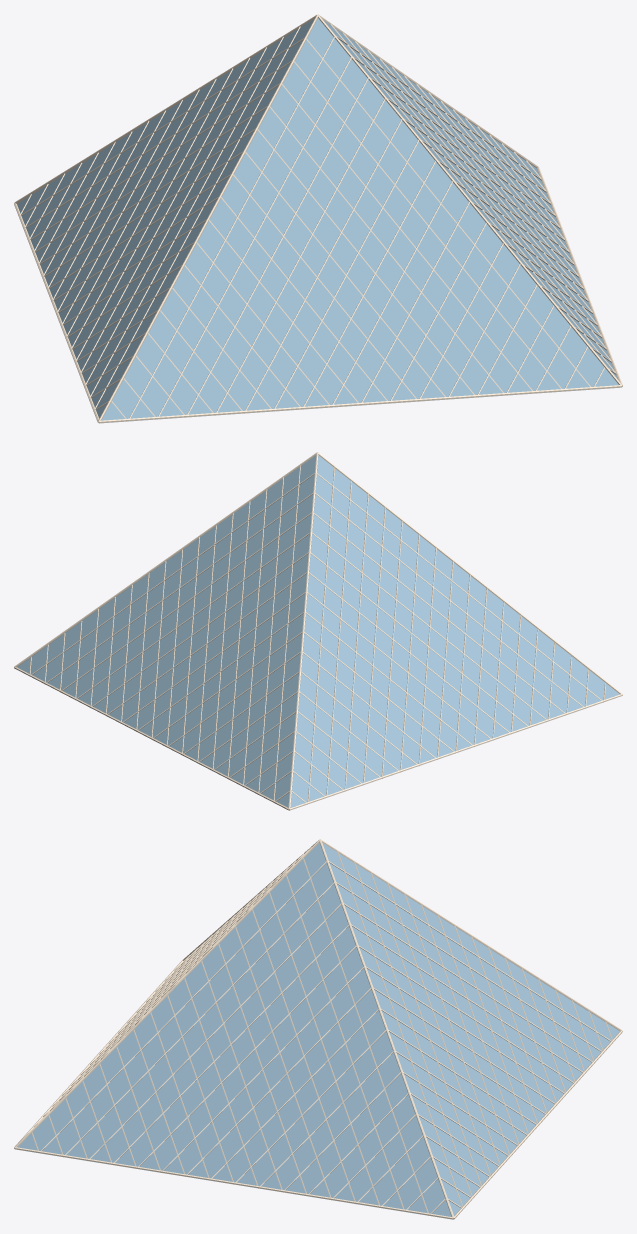
3 renders of one model, top to bottom at view 1: azimuth 30°, elevation 25°; view 2: azimuth 150°, elevation 25°; view 3: azimuth 270°, elevation 25°, orthographic. The views are drawn at different scales.
Parts seen in each view (by area): view 1: glass, trim; view 2: glass, trim; view 3: glass, trim.
Boxes of the visible parts, x1=… form: glass: x1=17, y1=18, x2=619, y2=423; trim: x1=14, y1=14, x2=622, y2=423; glass: x1=17, y1=455, x2=619, y2=807; trim: x1=14, y1=452, x2=622, y2=810; glass: x1=15, y1=843, x2=619, y2=1218; trim: x1=14, y1=839, x2=622, y2=1219.
Bounding box in the file's own units: 47.89 × 21.72 × 47.66.
